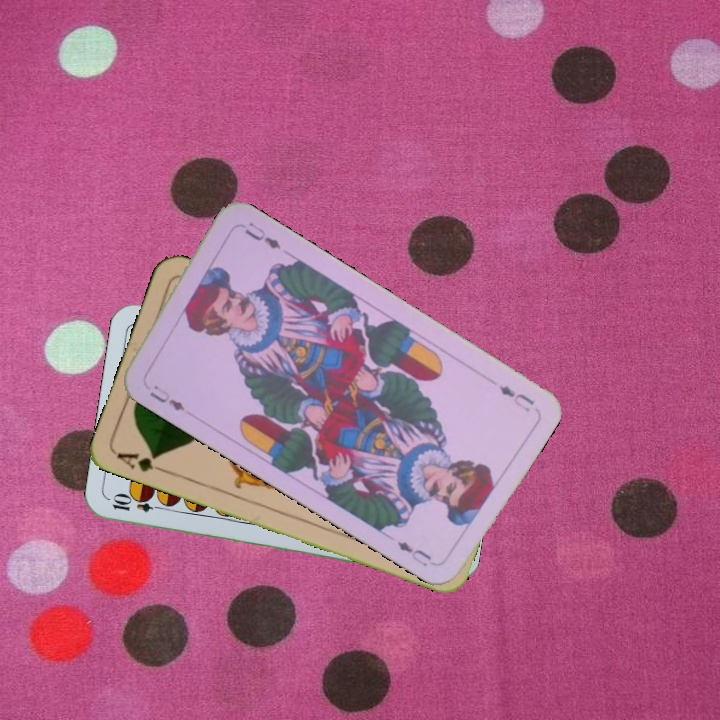E10: (108, 493, 168, 515)
EU: (145, 381, 188, 414), (495, 381, 537, 414)
GA: (112, 448, 170, 476)
